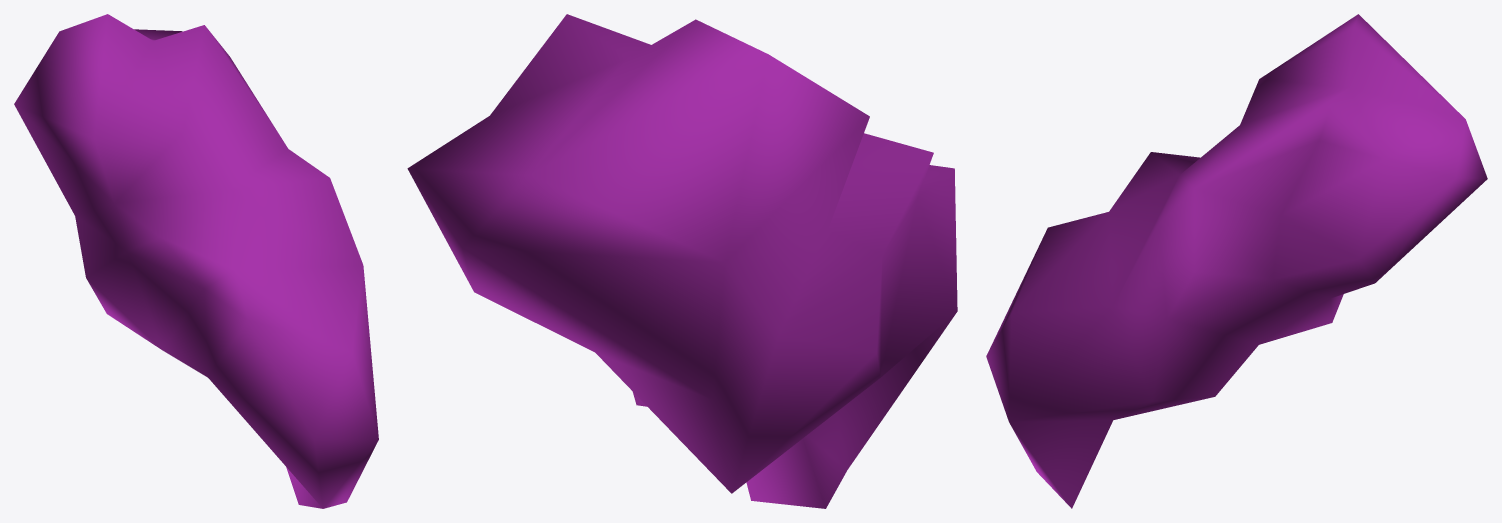
Rendered from Nuc_FOiRev.fbx.
3 views of the same model, side by side, from view 1: azimuth 30°, elevation 25°; view 2: azimuth 150°, elevation 25°; view 3: azimuth 270°, elevation 25° (orthographic). The views are drawn at different scales.
Parts seen in each view (by area): view 1: CoarseMS_1etf; view 2: CoarseMS_1etf; view 3: CoarseMS_1etf.
Part boxes in pixels (x1,y1,x2,y2): CoarseMS_1etf: (14, 14, 378, 508); CoarseMS_1etf: (407, 14, 957, 508); CoarseMS_1etf: (986, 14, 1487, 508).
Bounding box in the file's own units: 16.58 × 30.46 × 32.36.
